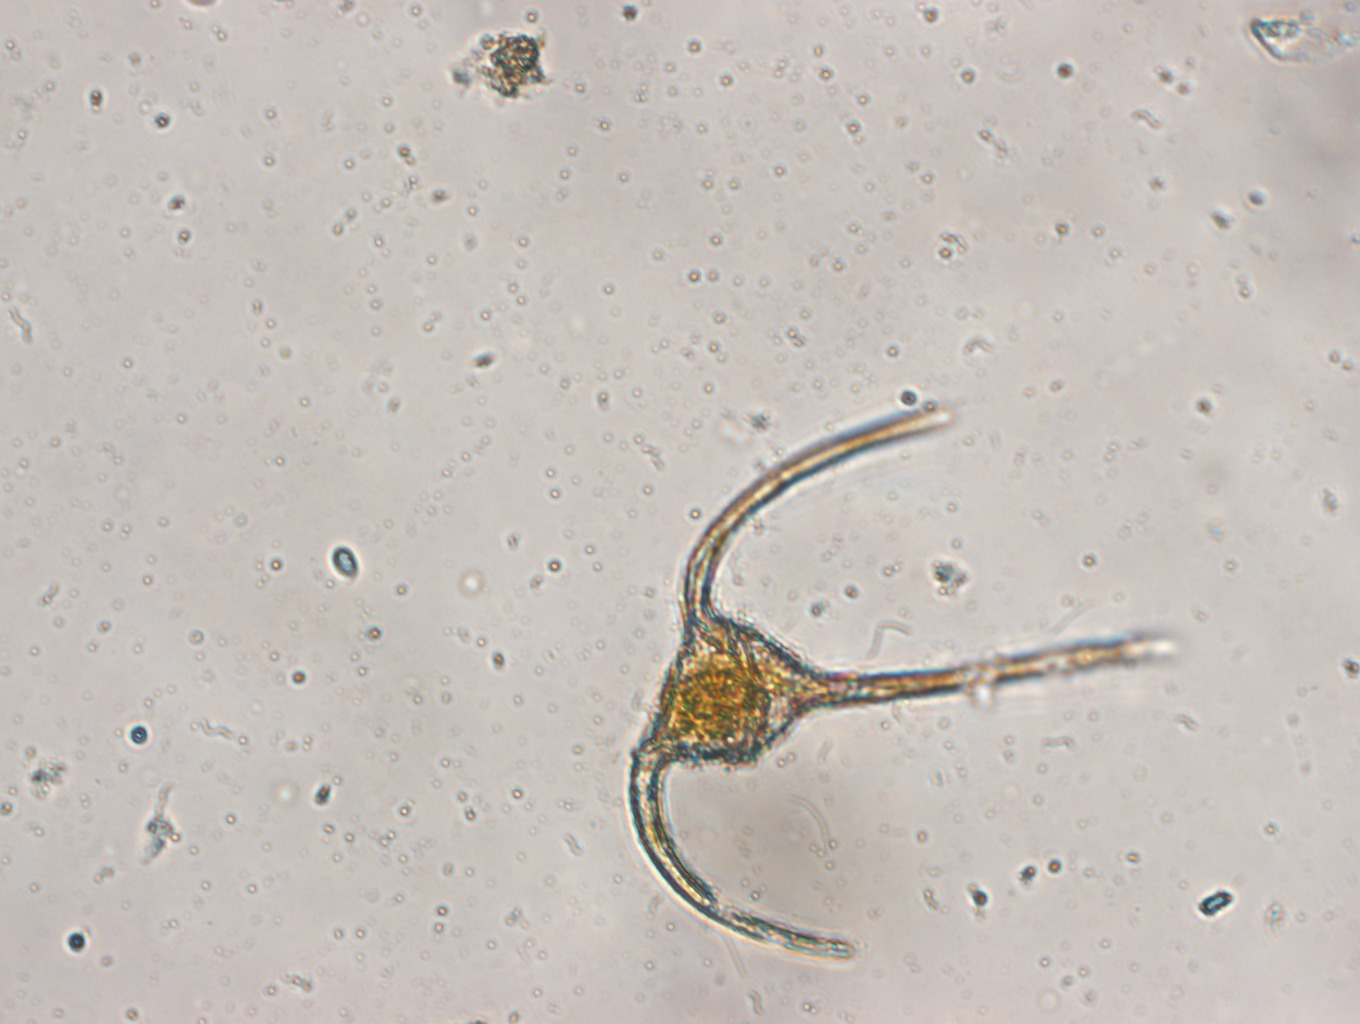ceratium trichoceros: (615, 400, 1180, 970)
